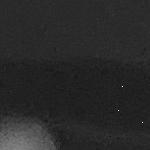colony: (0, 115, 66, 150)
